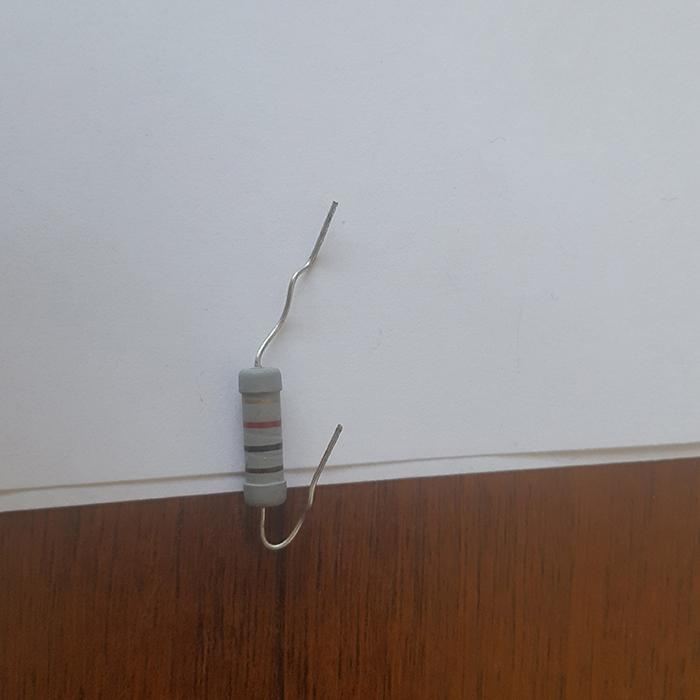resistor: (236, 364, 288, 507)
